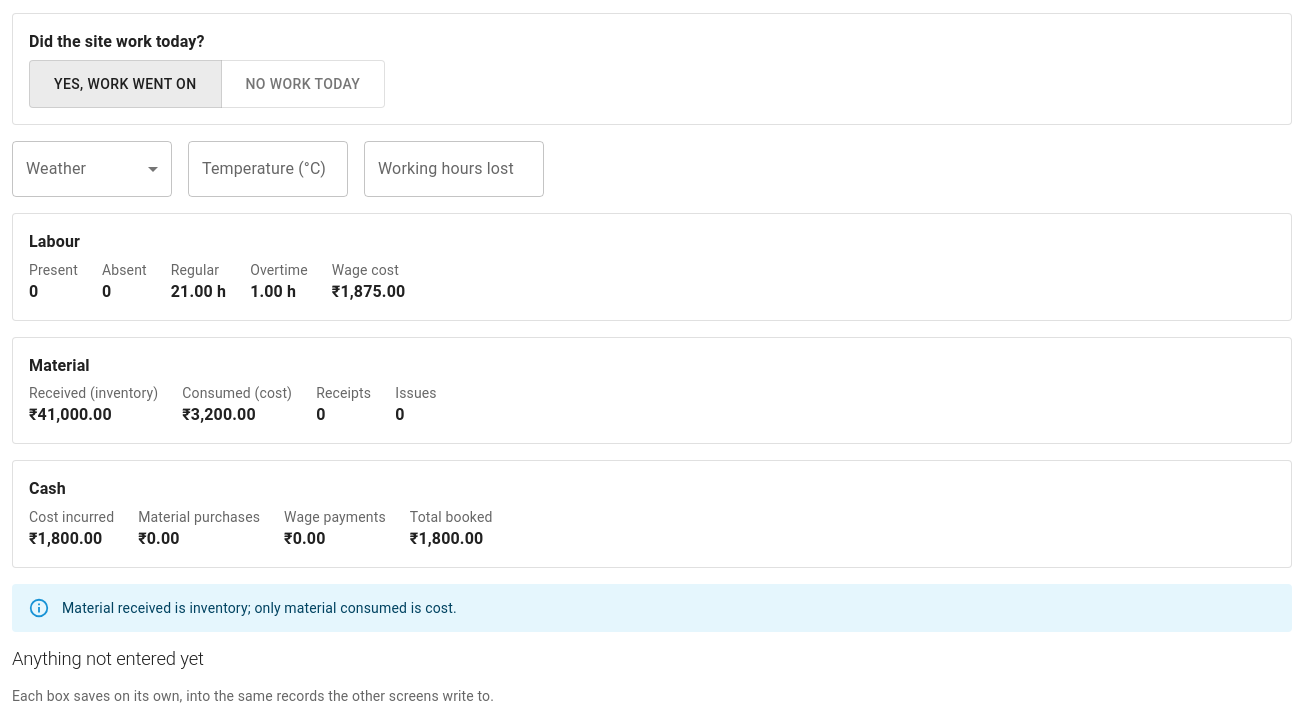
Test: DprWizardPage › asks what happened when the cause is “other”
Expected: the text "Labour" is shown, [29,232,80,251]
Click the button "No work today" at (303, 84), box [220,60,385,108]
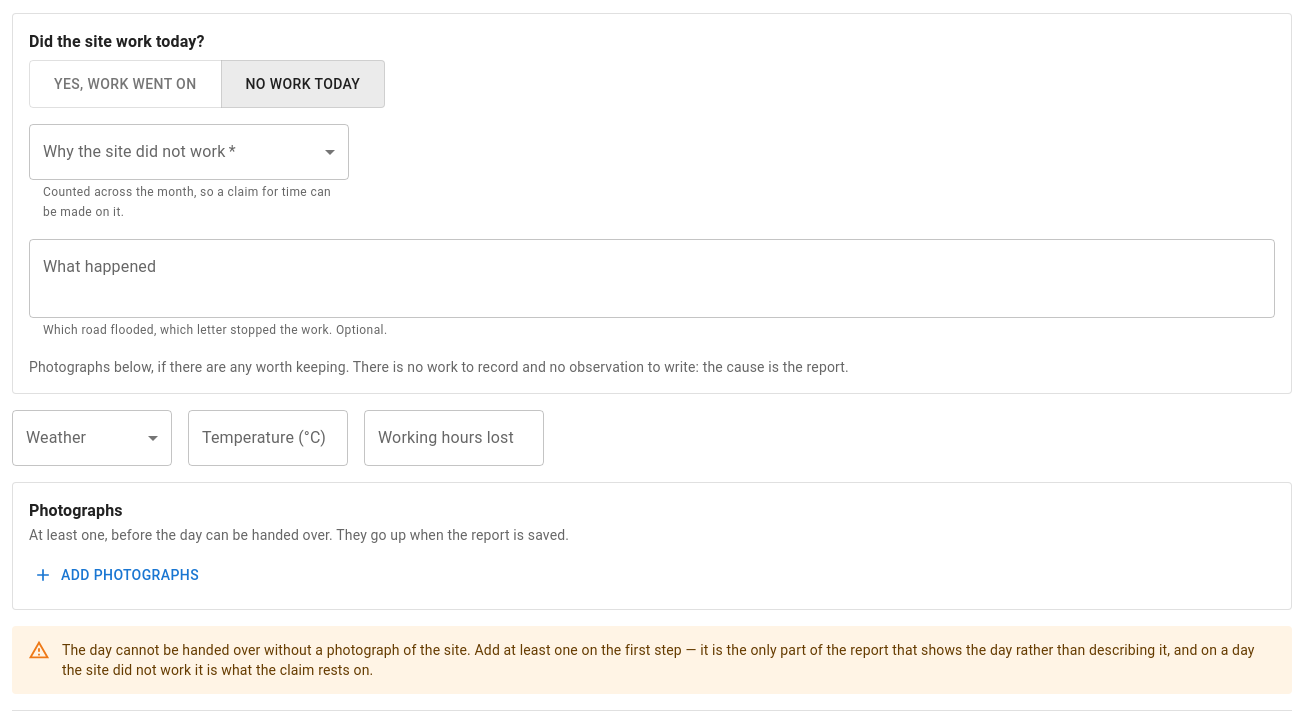
Click the dropdown named "Why the site did not work" next to "Why the site did not work" at (189, 152), box [29,124,349,180]
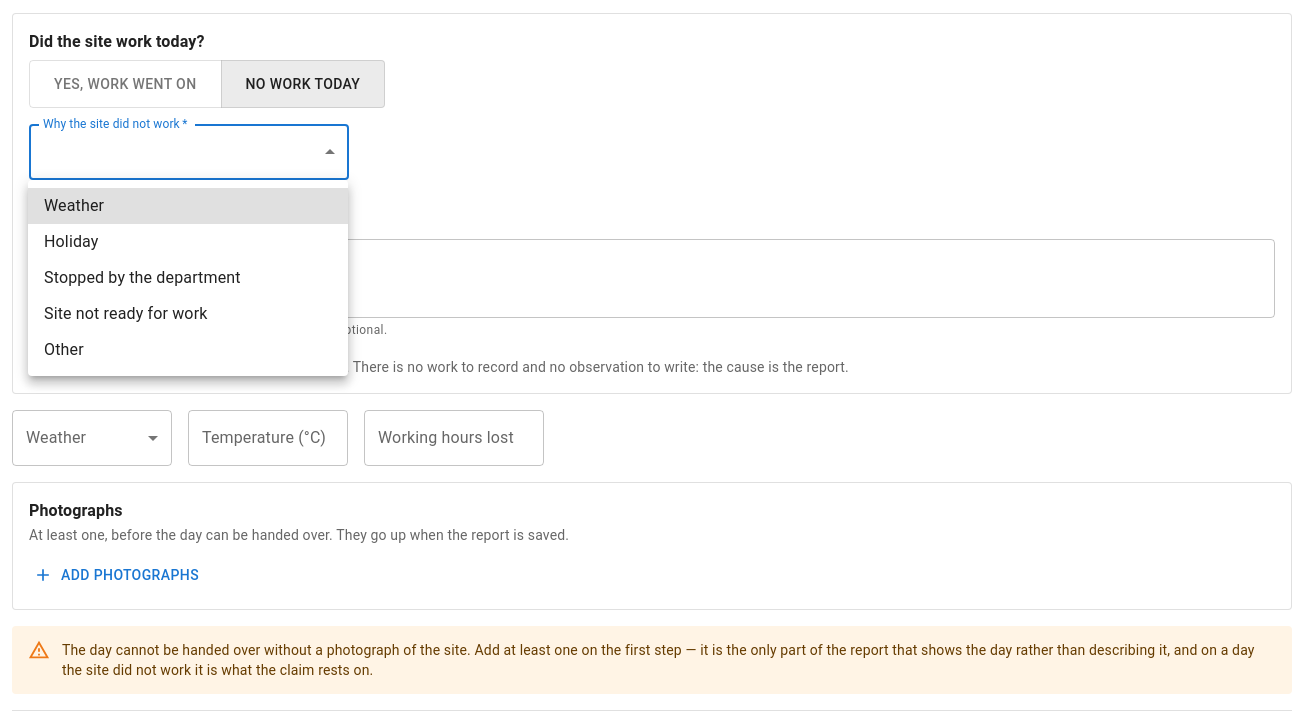
Click the option "Other" at (64, 350), box [44,340,84,359]
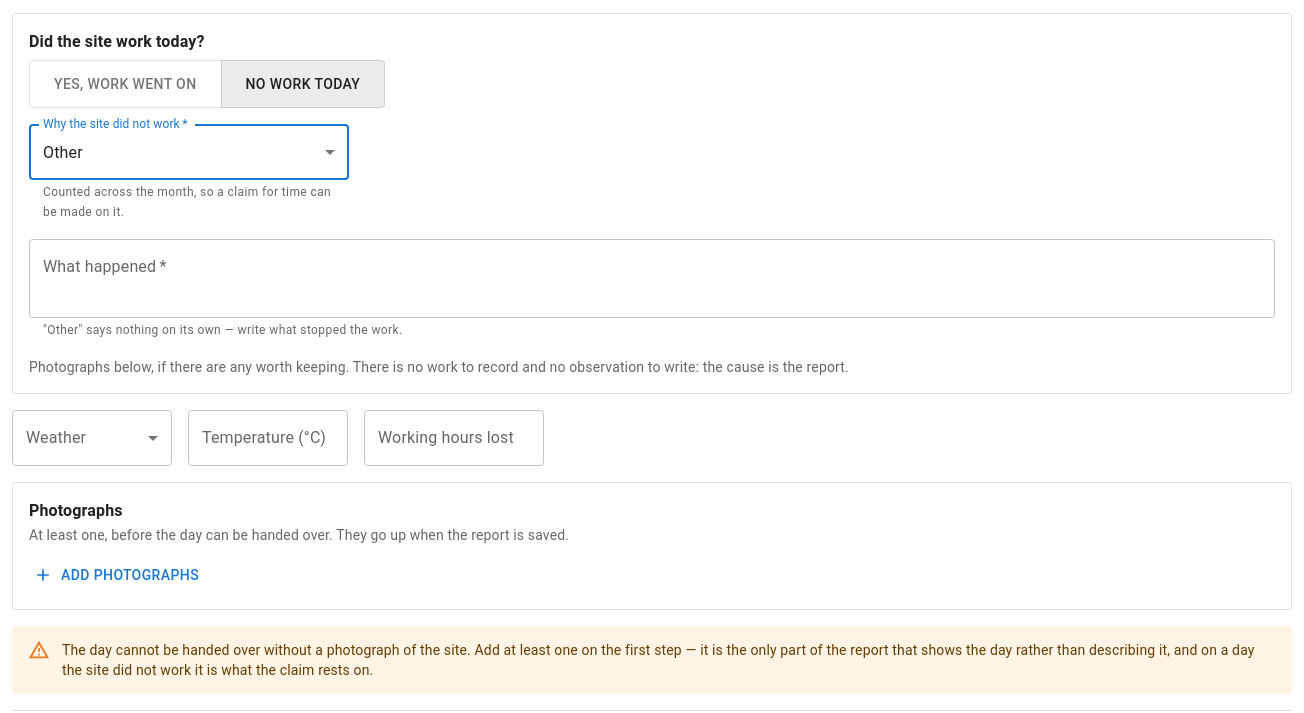
Type "Land dispute at the gate" into the text box labelled "What happened *" at (652, 278), box [43,255,1261,301]
(page scrolled)
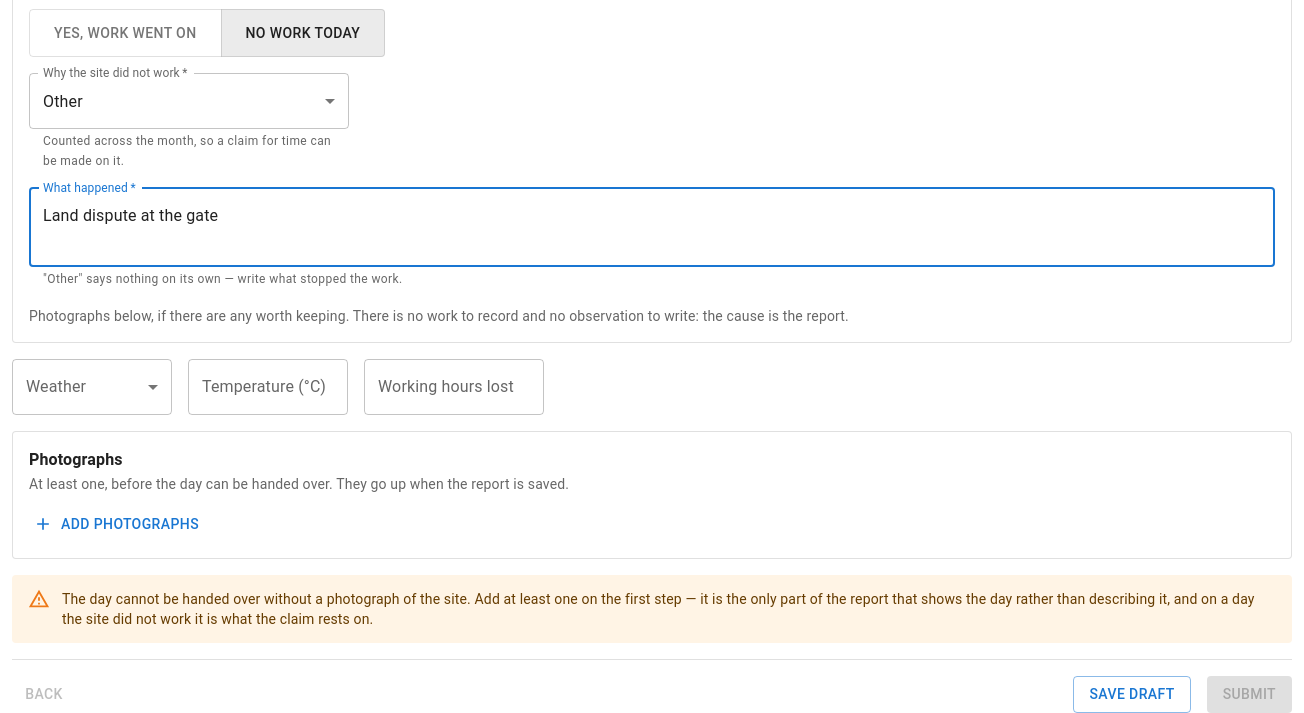
Expected: the button "Save draft" is enabled, [1073,676,1191,712]
